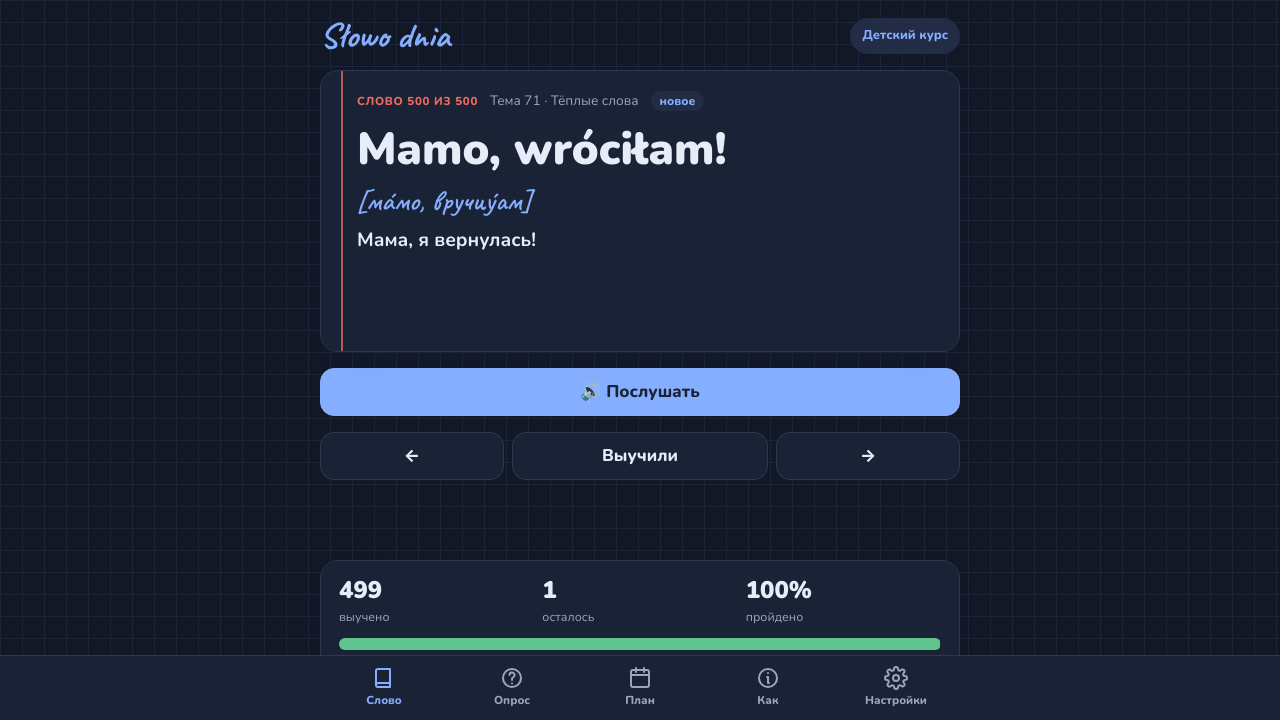
Scenario: praise toast › the last word of the course → "Все 500 слов выучены! Gratulacje!"
The width and height of the screenshot is (1280, 720).
Click the button "Выучили": (640, 456) [512,432,768,480]
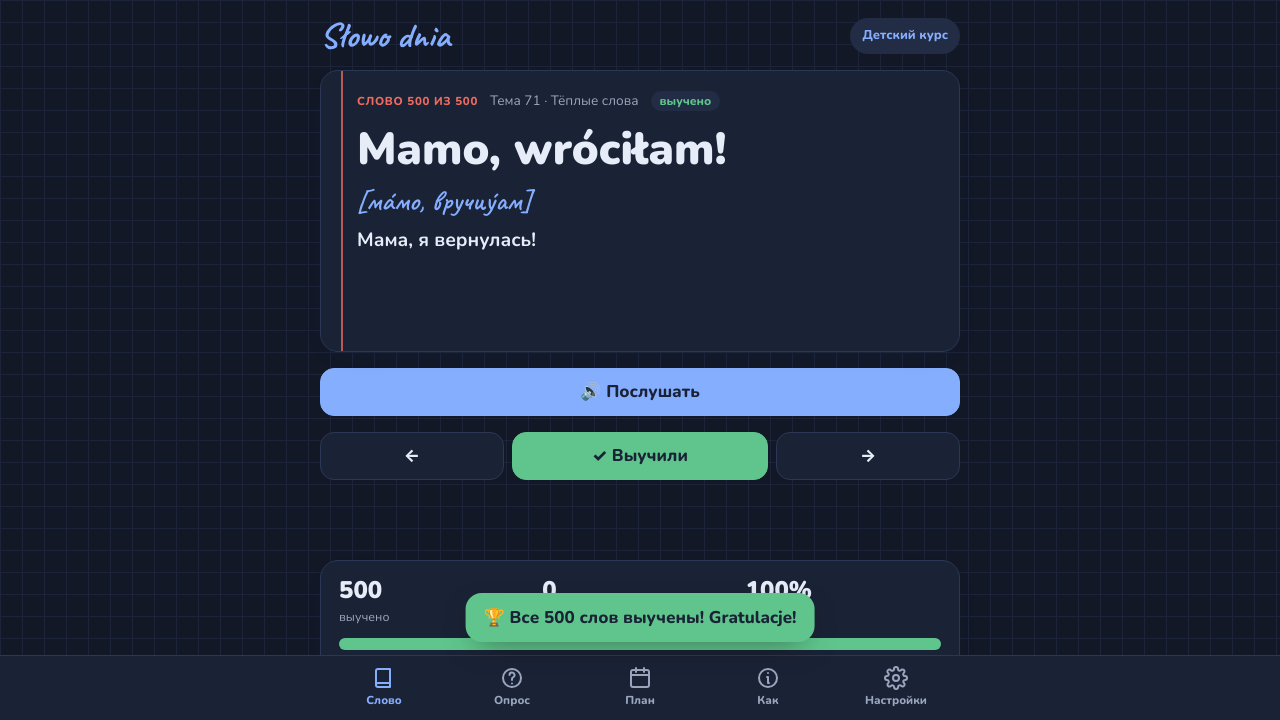
Expected: the message reads "🏆 Все 500 слов выучены! Gratulacje!", [484,606,796,628]
